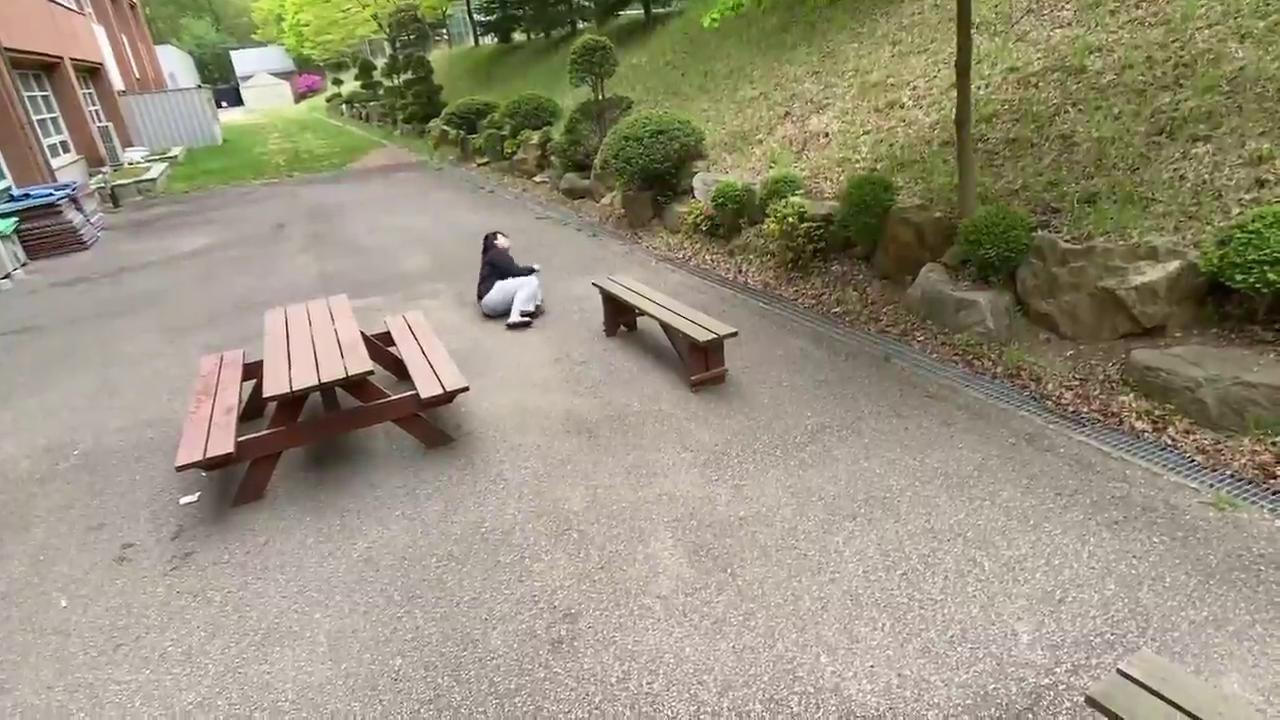fall_down: (479, 231, 549, 328)
